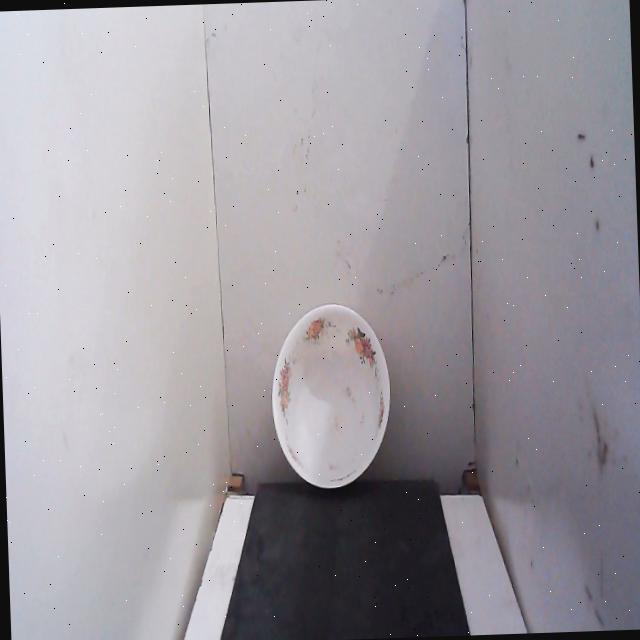plastico: (258, 284, 401, 510)
